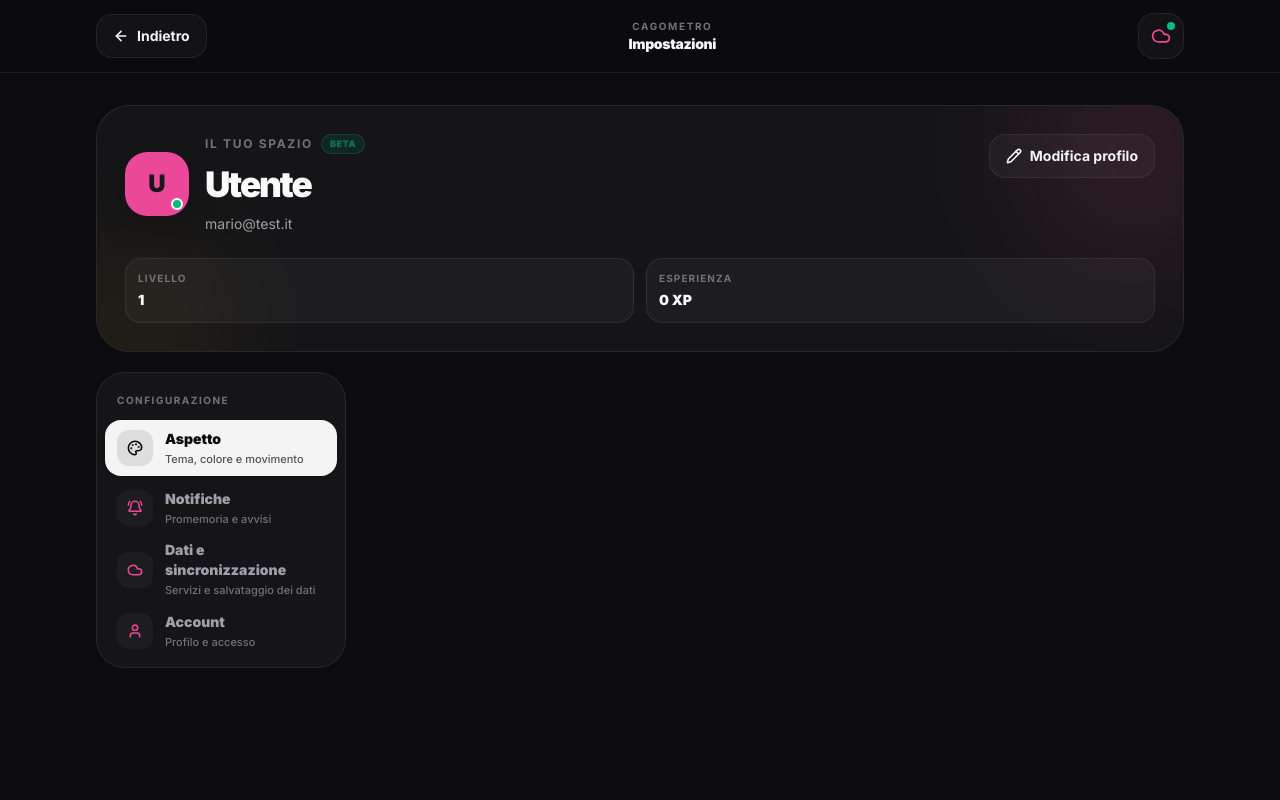
Test: CagometroSettings › mostra i consumi del piano solo all'account proprietario
Click the button "Account Profilo e accesso": (221, 631) x1=105 y1=603 x2=337 y2=659
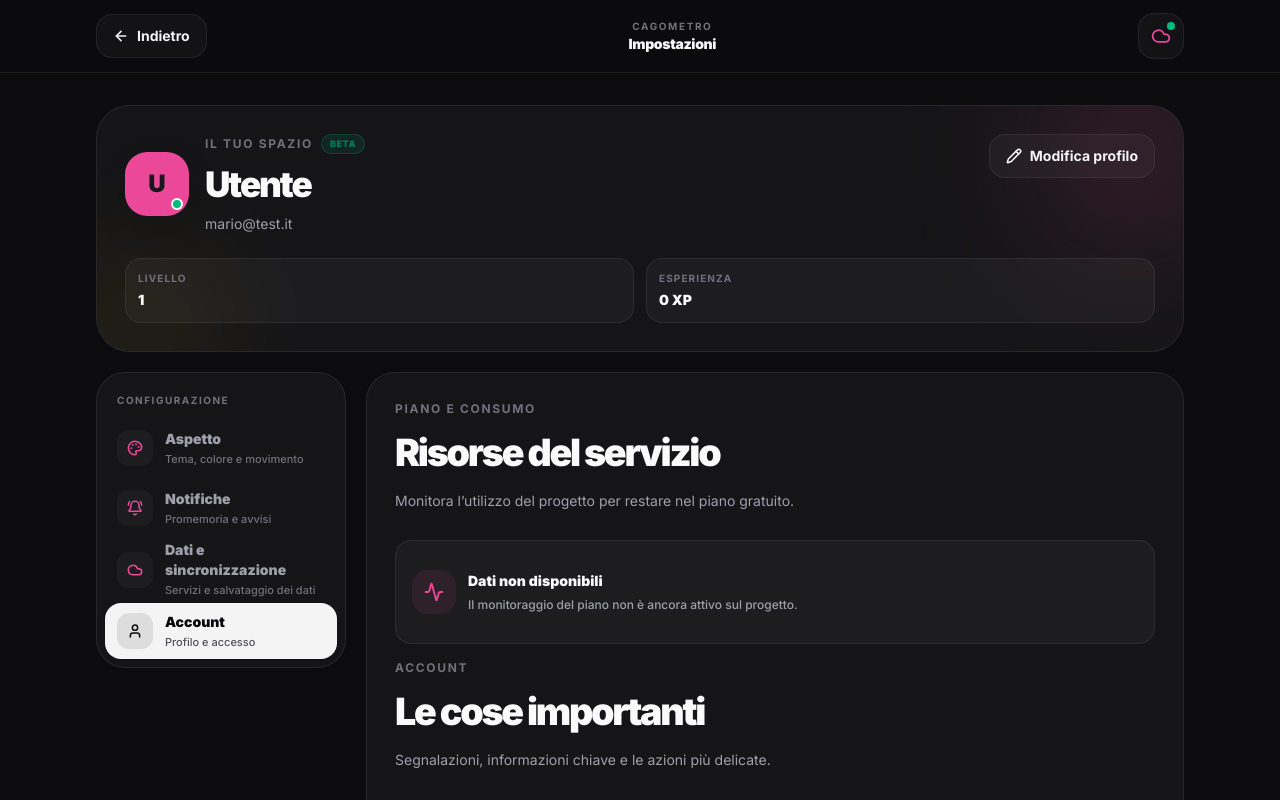
Expected: the heading "Risorse del servizio" is shown, x1=395 y1=430 x2=719 y2=475
